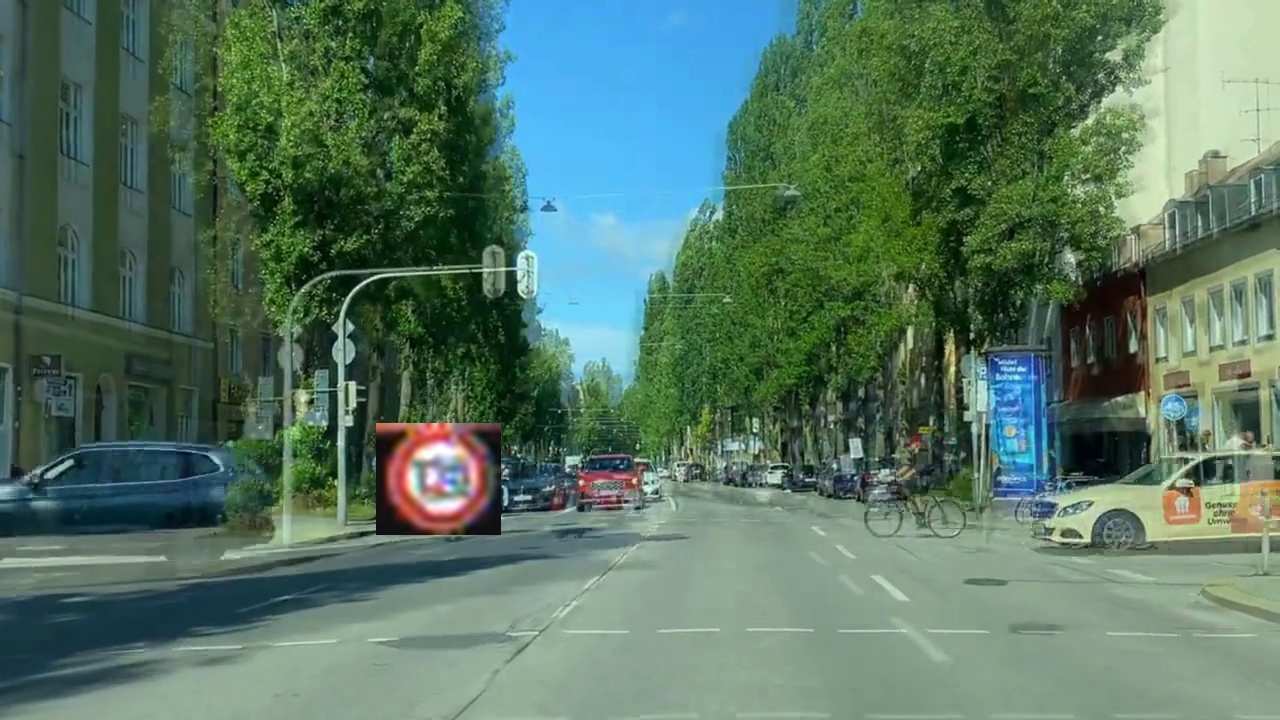Speed 120: (376, 423, 501, 535)
